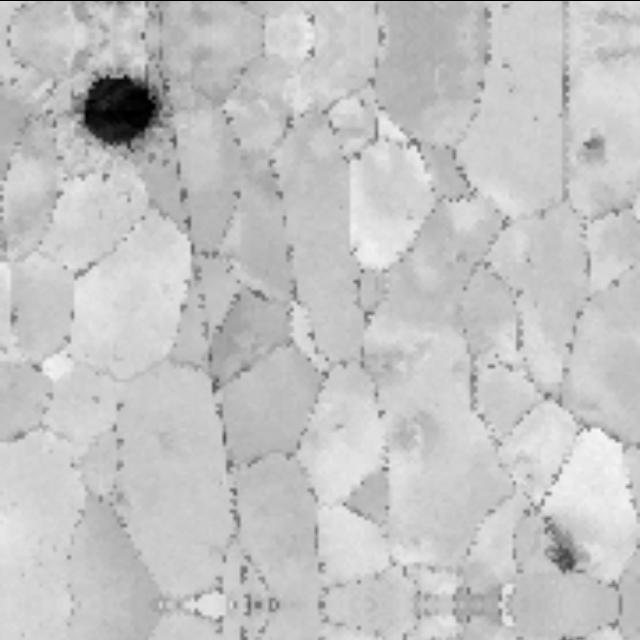good_void: (68, 67, 168, 168), (540, 509, 597, 578), (567, 116, 626, 174)
